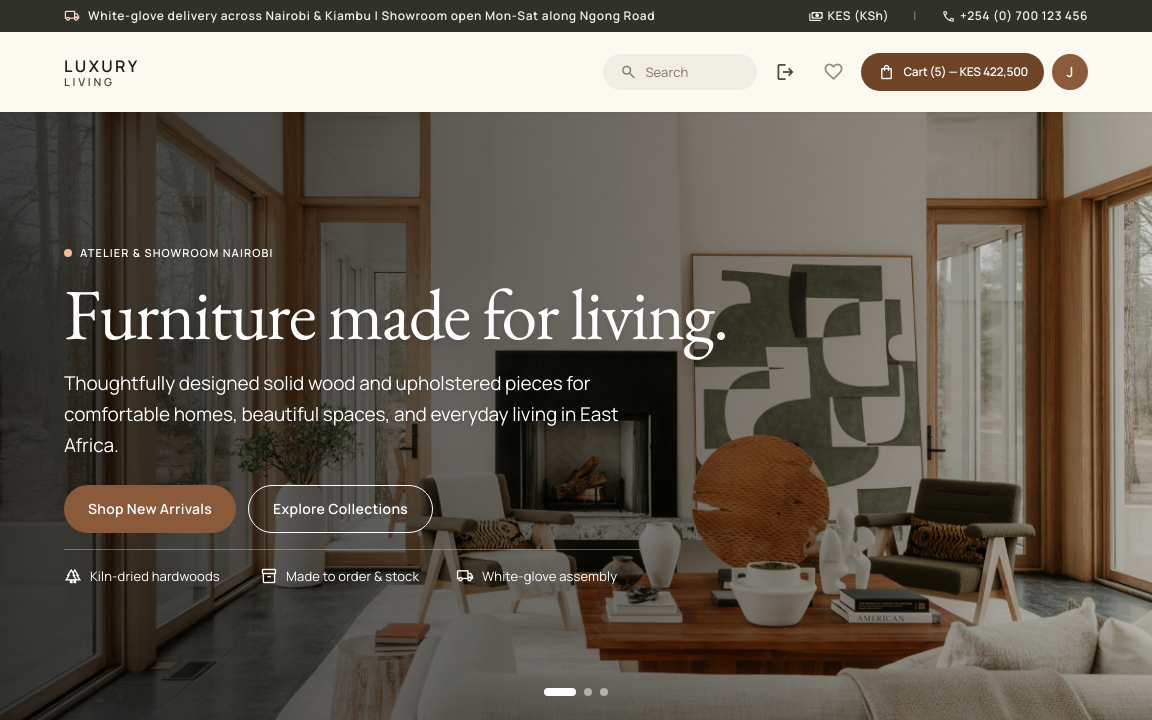
Scenario: shopping › shows when a carted line has a stock problem
Step 1. Click the button "Cart (5) — KES 422,500" → (953, 72), box left=861, top=53, right=1044, bottom=91
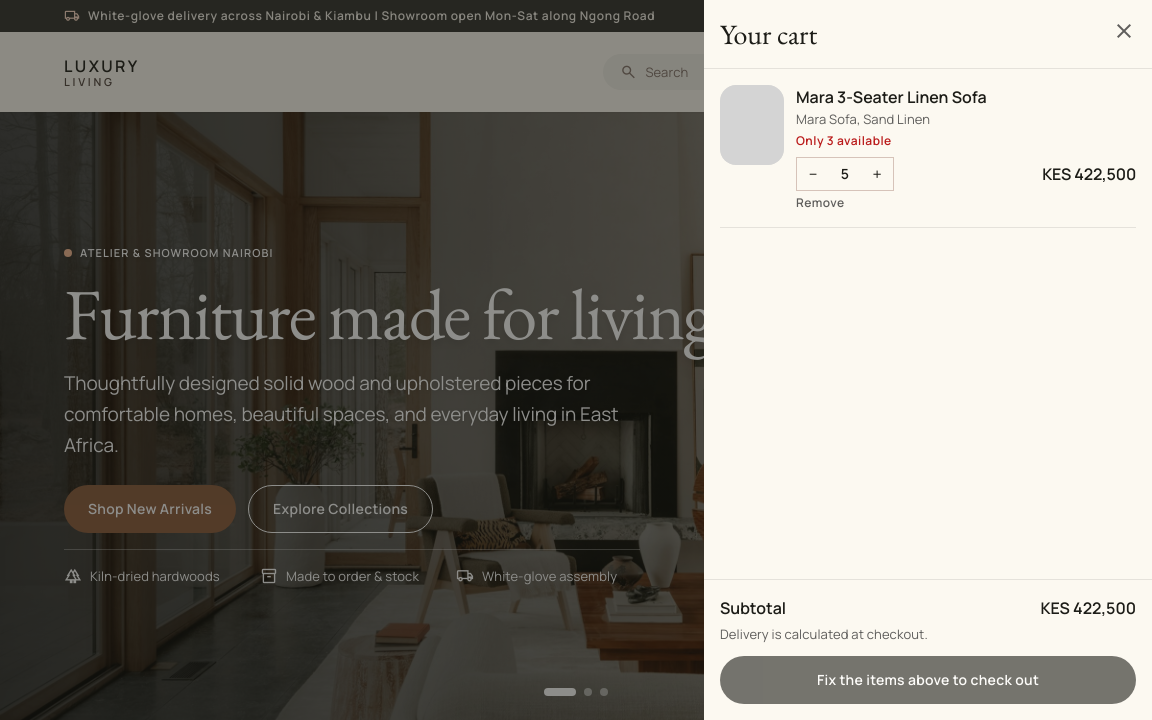
Now the text "Only 3 available" is shown, box left=796, top=132, right=892, bottom=149
